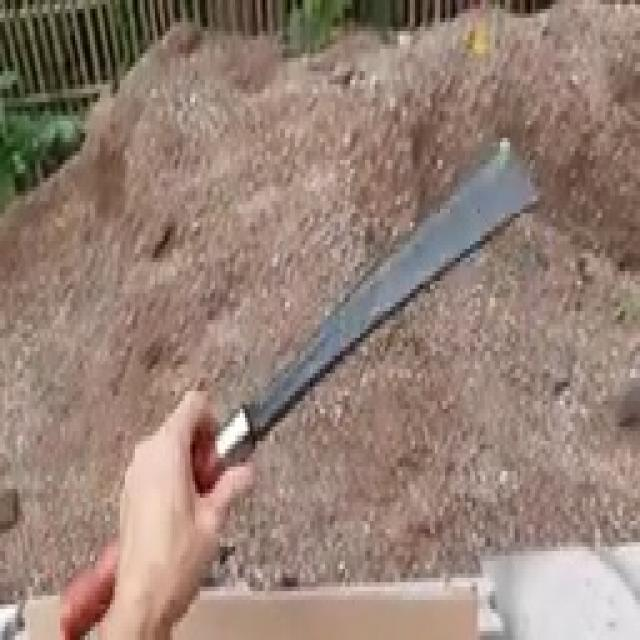eto: (60, 142, 535, 638)
